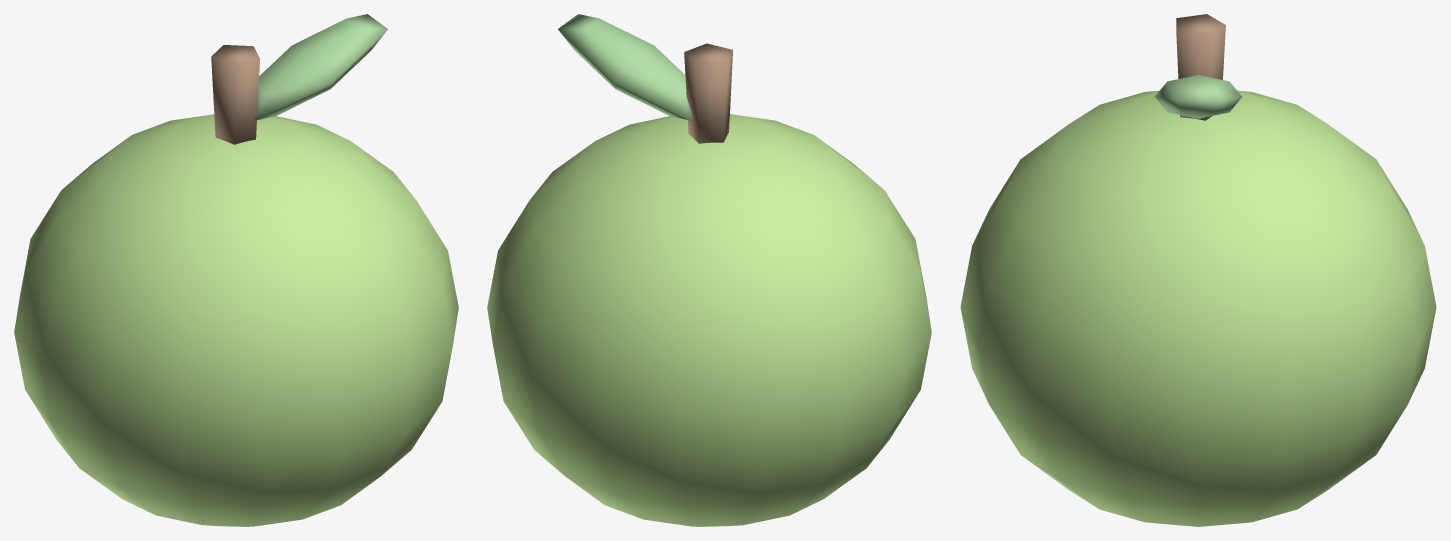
The model's file is item_maca_verde.glb.
3 views of the same model, side by side, from view 1: azimuth 30°, elevation 25°; view 2: azimuth 150°, elevation 25°; view 3: azimuth 270°, elevation 25° (orthographic). The views are drawn at different scales.
Parts seen in each view (by area): view 1: item_maca_verde; view 2: item_maca_verde; view 3: item_maca_verde.
Part boxes in pixels (left/top/right/bottom): item_maca_verde: left=14, top=14, right=458, bottom=526; item_maca_verde: left=487, top=14, right=931, bottom=526; item_maca_verde: left=960, top=14, right=1436, bottom=526.
Bounding box in the file's own units: 0.26 × 0.2908 × 0.26.
